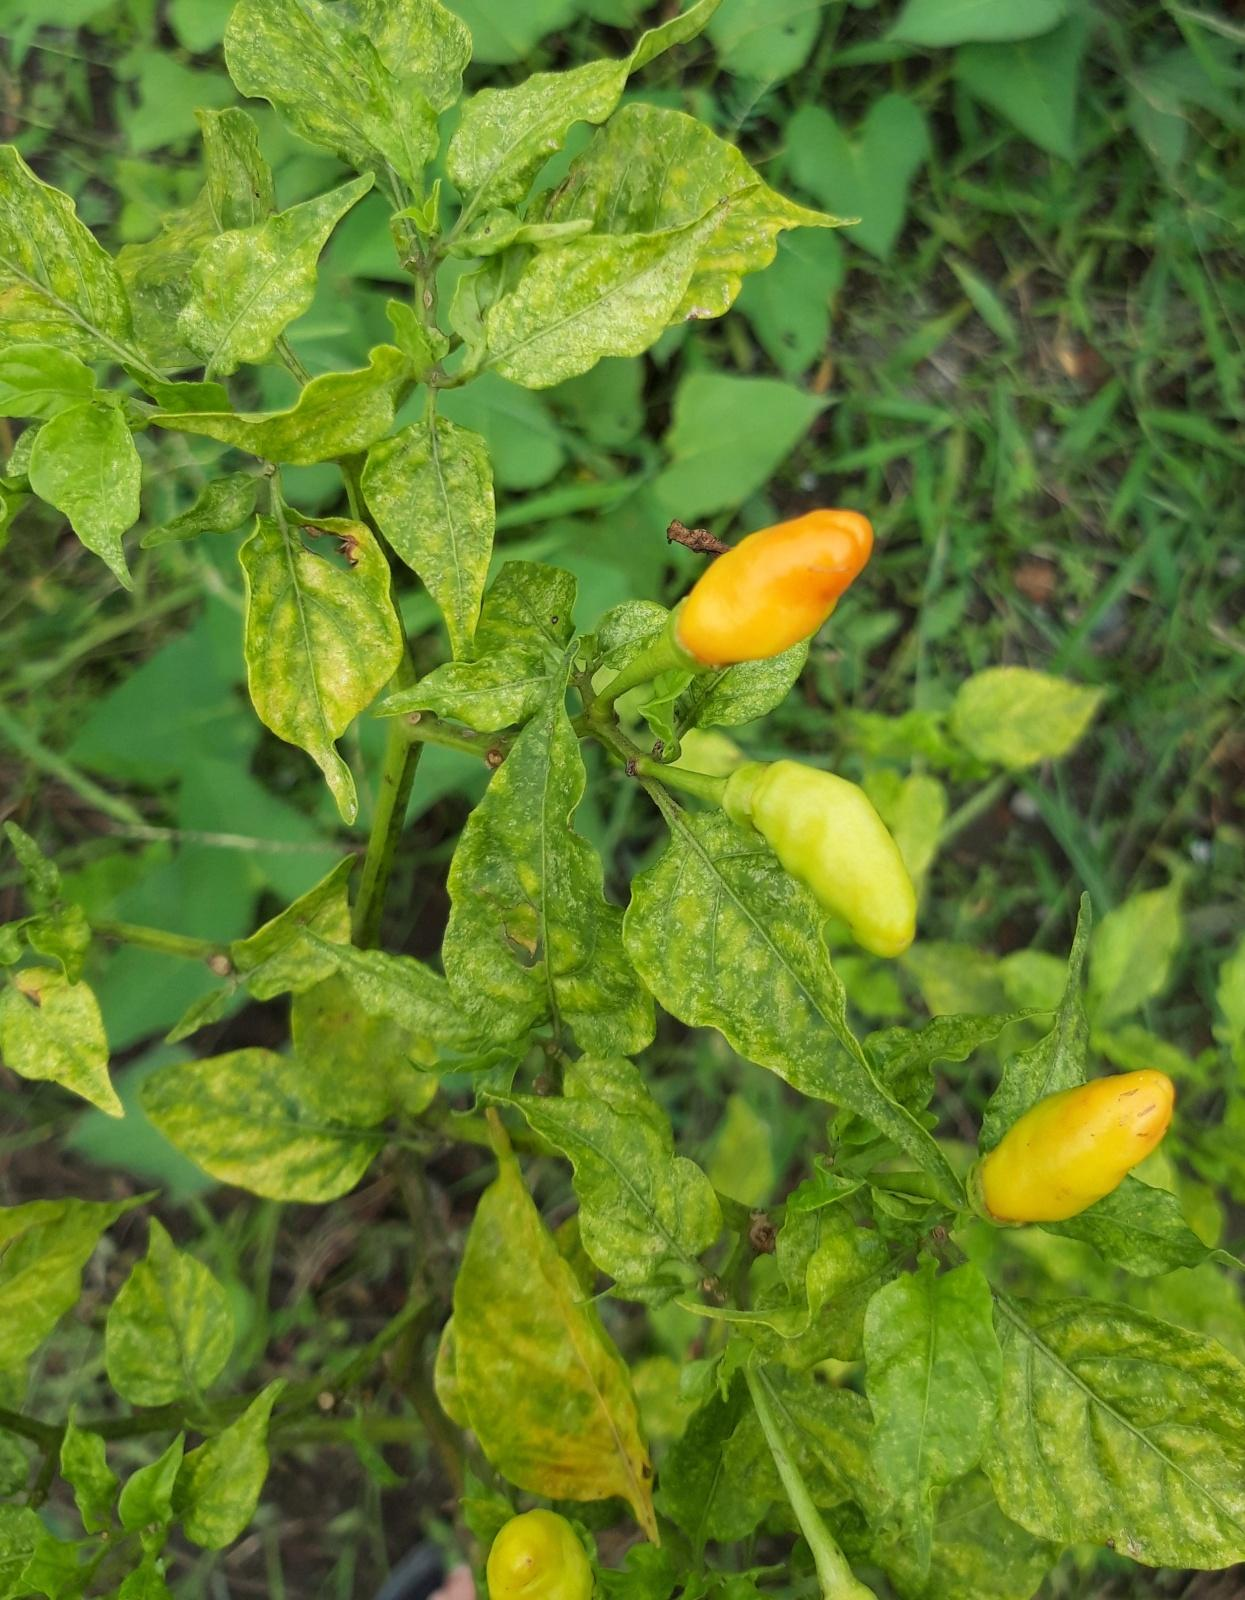cabai_normal: (719, 751, 917, 957), (679, 506, 879, 664), (984, 1066, 1180, 1219), (487, 1510, 598, 1600)
